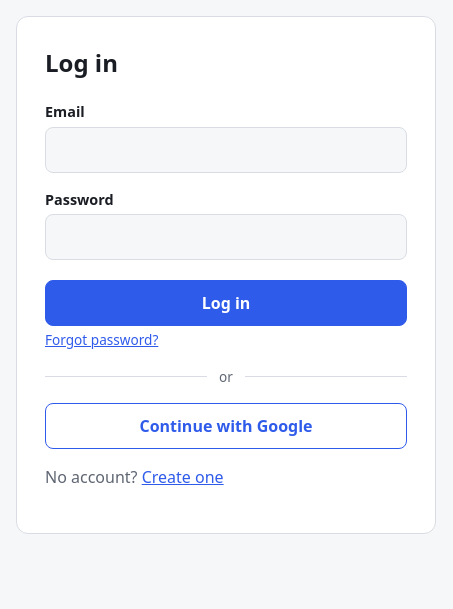
Test case: login form › shows the server error for wrong credentials
The image size is (453, 609).
Type "erin@example.com" into the field labelled "Email" at (226, 150), box [45, 127, 407, 173]
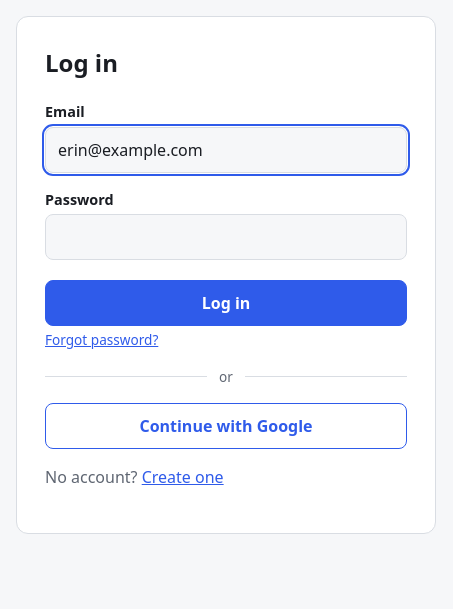
Type "wrong-password" into the password field labelled "Password" at (226, 237), box [45, 214, 407, 260]
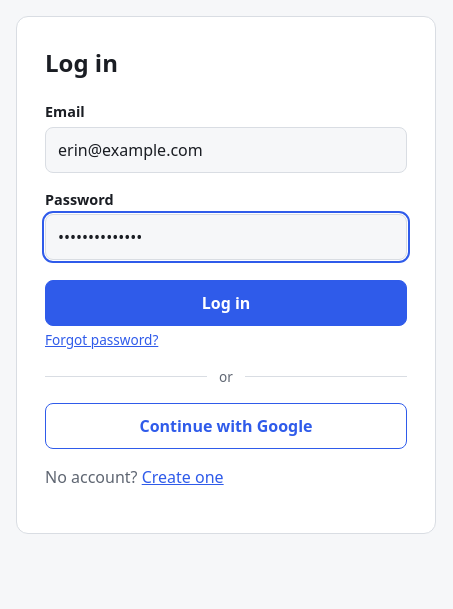
Click the button "Log in" at (226, 303), box [45, 280, 407, 326]
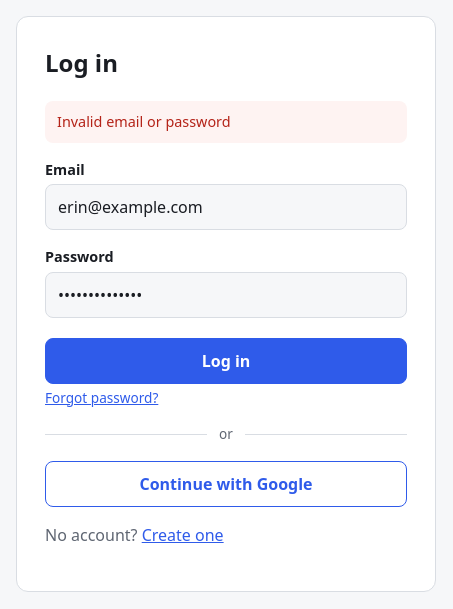
expect the message reads "Invalid email or password": met, box [57, 112, 231, 131]
